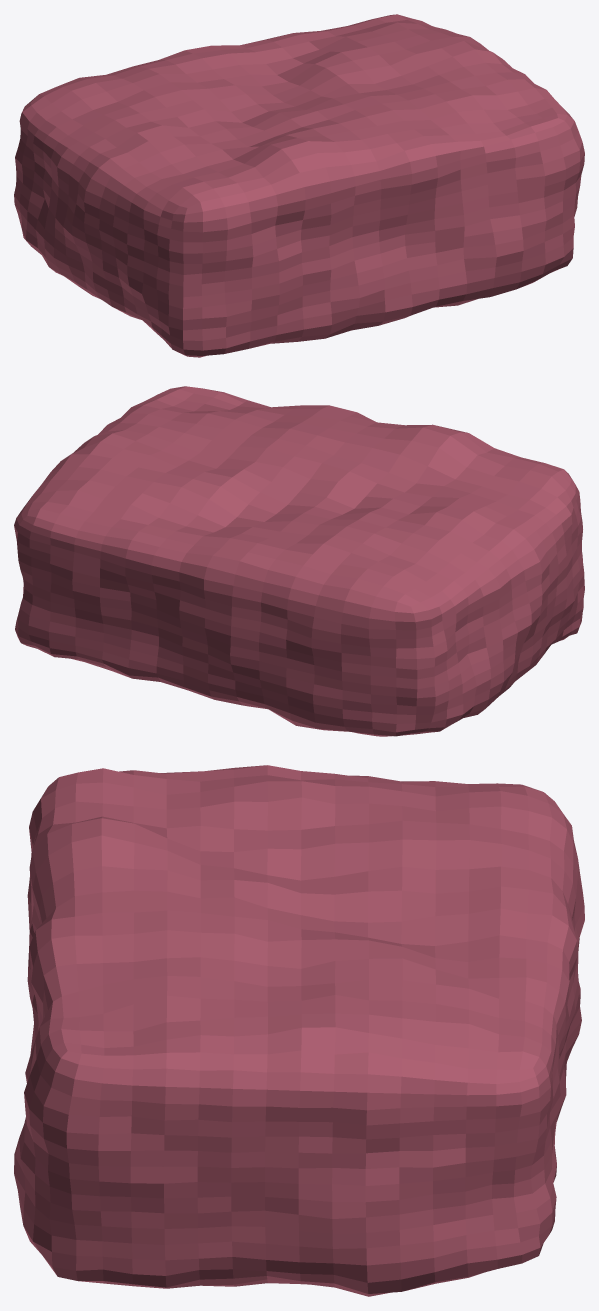
The picture shows the model from 3 angles, top to bottom: view 1: azimuth 30°, elevation 25°; view 2: azimuth 150°, elevation 25°; view 3: azimuth 270°, elevation 25°; orthographic projection. The views are drawn at different scales.
Parts seen in each view (by area): view 1: Pillow; view 2: Pillow; view 3: Pillow.
Boxes of the visible parts, x1,y1,x2,y2 form: Pillow: (14, 14, 584, 357); Pillow: (14, 386, 584, 736); Pillow: (14, 765, 584, 1296).
Bounding box in the file's own units: 1.15 × 0.4819 × 0.8493.
